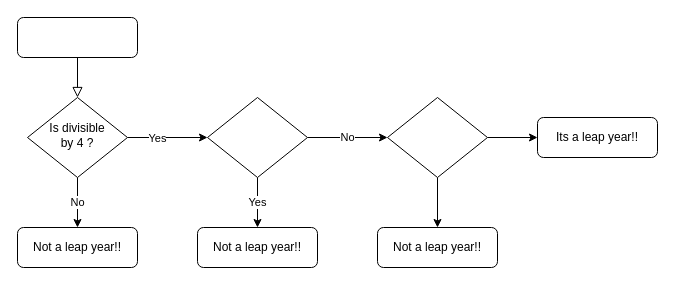
The diagram is 675 pixels wide and 285 high, and some of its shapes have lost their labels. The shapes that lost their labels are listed below. From the top down, each one's centre as x and y in pixels, then its label:
the point at 77,37: Enter Year?
the point at 257,137: Is divisible by 100 ?
the point at 437,137: Is divisible by 400 ?
